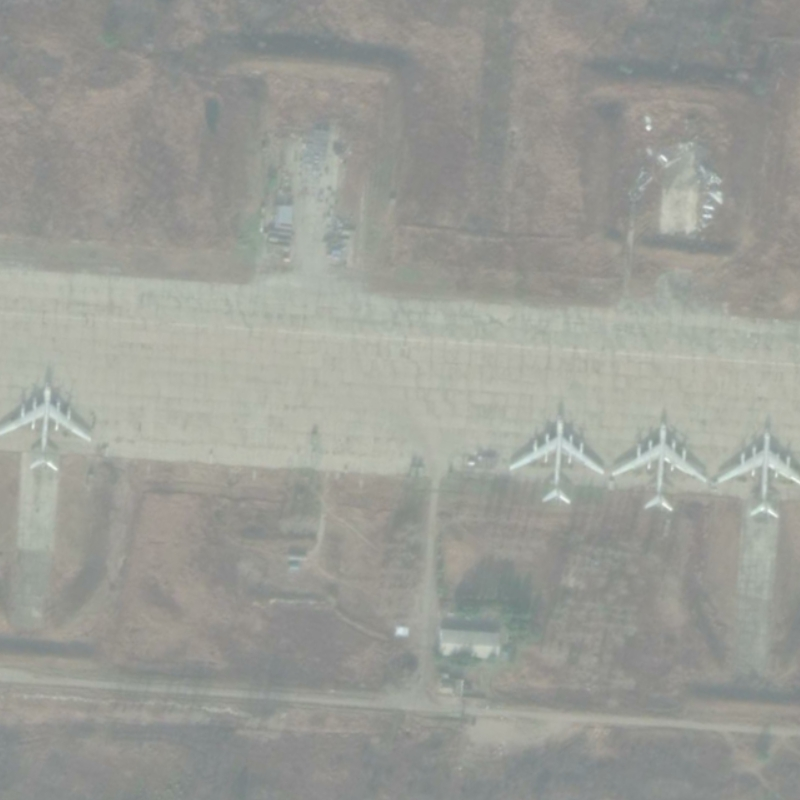A12: (609, 419, 710, 513), (507, 416, 607, 508), (1, 380, 95, 474), (715, 426, 800, 520)
